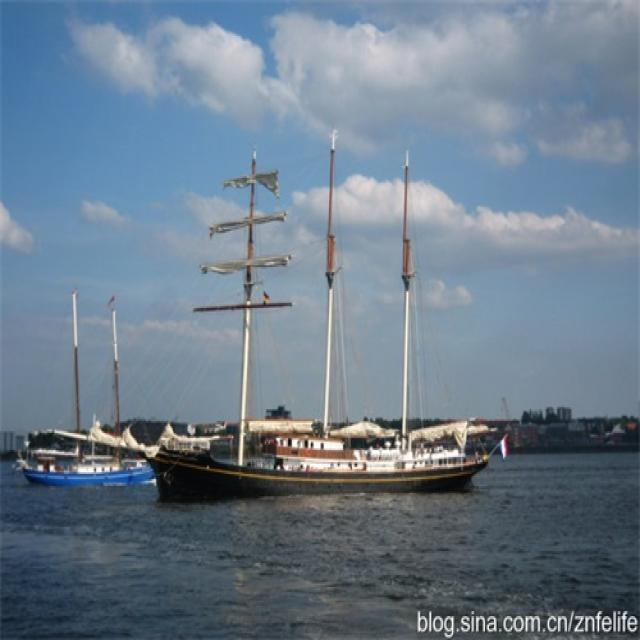Ship: (138, 131, 498, 500)
